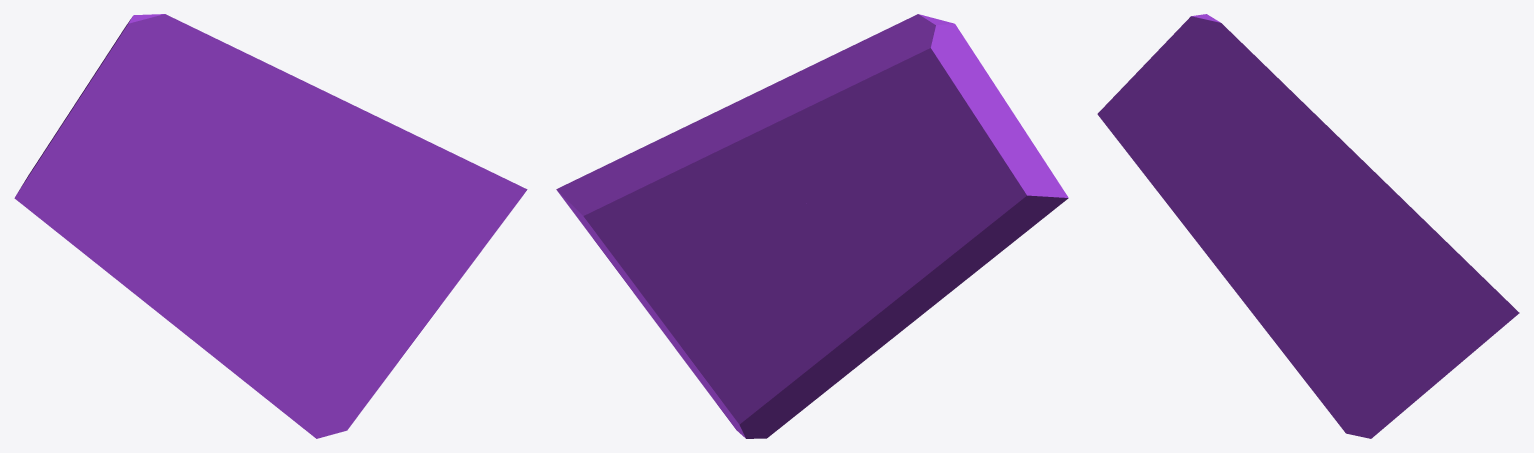
File: Window_40_8_chunks.fbx
3 views of the same model, side by side, from view 1: azimuth 30°, elevation 25°; view 2: azimuth 150°, elevation 25°; view 3: azimuth 330°, elevation 25° (orthographic). The views are drawn at different scales.
Parts seen in each view (by area): view 1: Window_40_8_2, Window_40_8_0, Window_40_8_1, Window_40_8_3; view 2: Window_40_8_2, Window_40_8_0, Window_40_8_3, Window_40_8_1; view 3: Window_40_8_2, Window_40_8_0, Window_40_8_1, Window_40_8_3.
Part boxes in pixels (box(x1,y1,x2,y2)): Window_40_8_2: box(254, 107, 527, 438); Window_40_8_0: box(43, 14, 357, 213); Window_40_8_1: box(106, 212, 304, 428); Window_40_8_3: box(14, 134, 203, 270); Window_40_8_2: box(556, 107, 822, 438); Window_40_8_0: box(725, 14, 1040, 211); Window_40_8_3: box(814, 147, 1068, 306); Window_40_8_1: box(779, 269, 976, 428); Window_40_8_2: box(1294, 177, 1519, 438); Window_40_8_0: box(1120, 14, 1379, 222); Window_40_8_1: box(1173, 202, 1335, 420); Window_40_8_3: box(1097, 90, 1252, 210).
Size of the model in its own units: 581 by 500 by 27.2.
